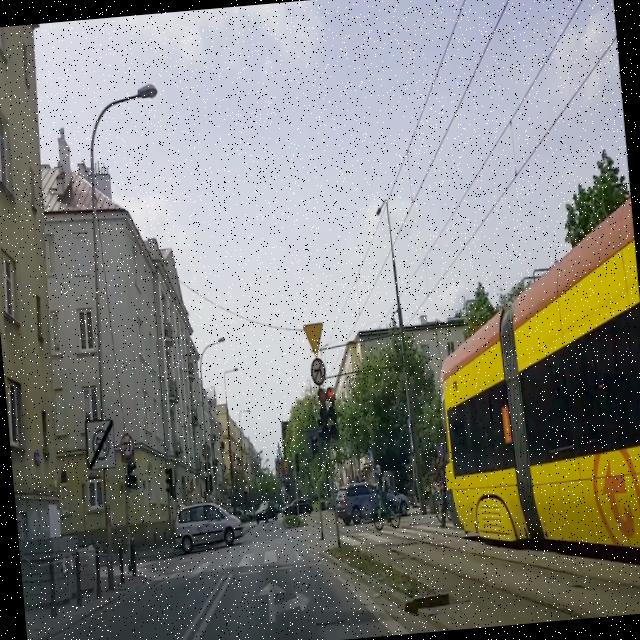Przejscie dla pieszych: (368, 448, 373, 462)
Ustap pierwszenstwa: (302, 322, 325, 358)
Zakaz zatrzymywania sie: (435, 440, 445, 460)
